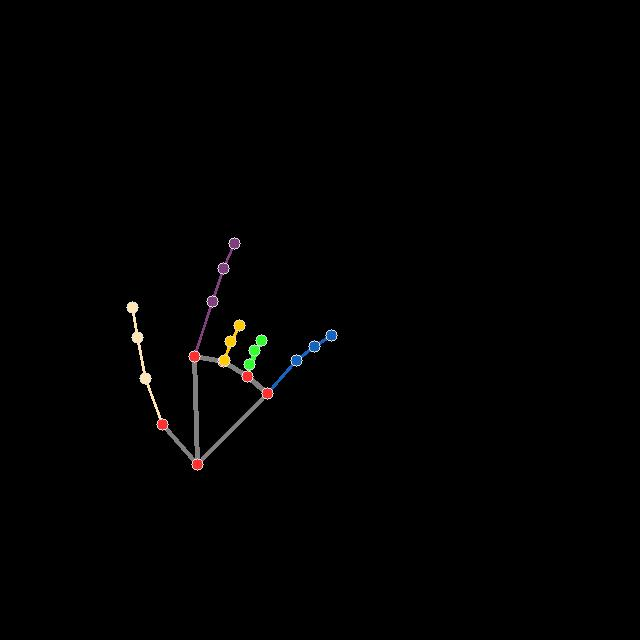spiderman: (126, 236, 338, 470)
